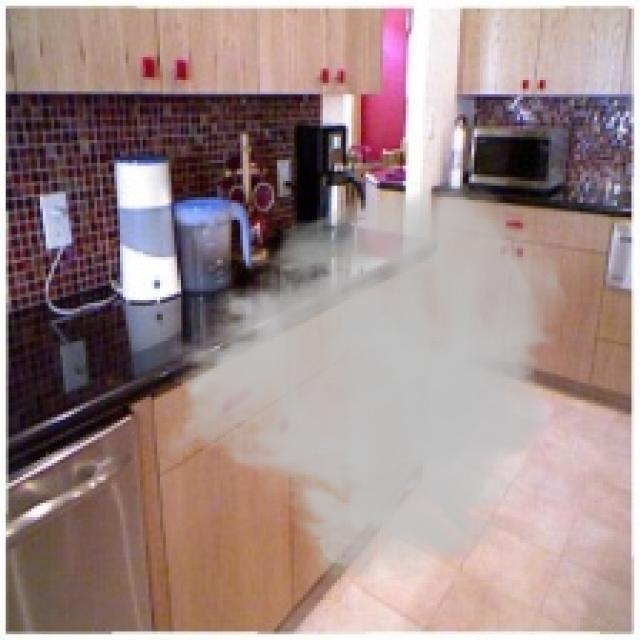smoke: (157, 177, 572, 586)
